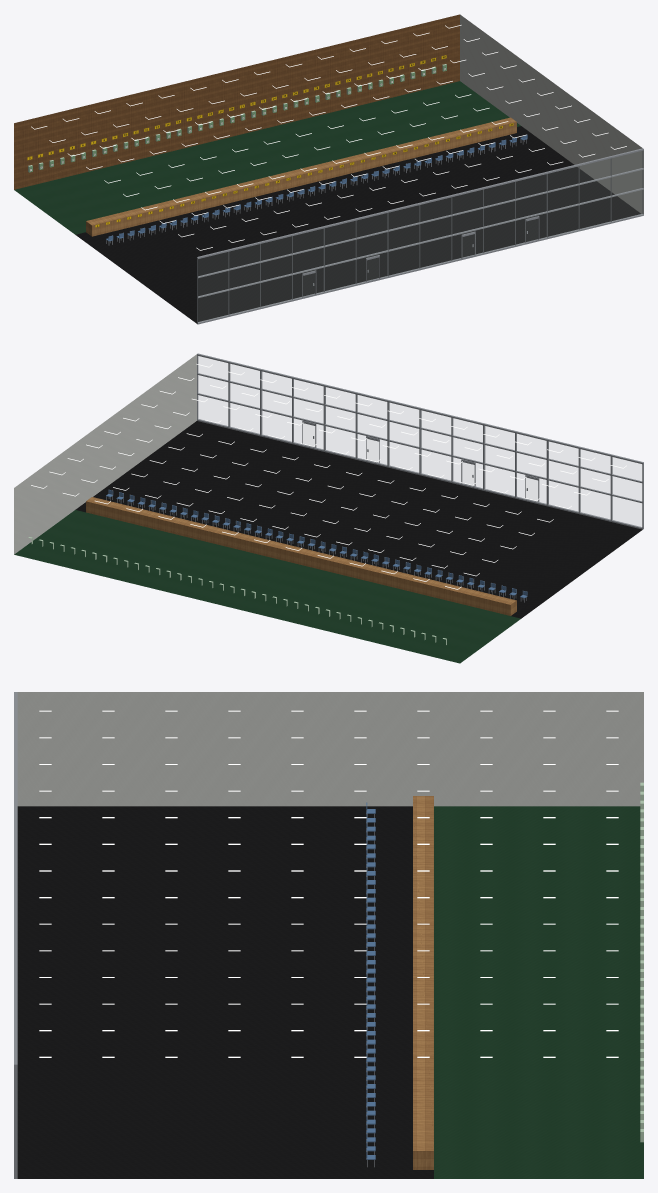
The model's file is range_10m.glb.
3 views of the same model, one above another, from view 1: azimuth 30°, elevation 25°; view 2: azimuth 150°, elevation 25°; view 3: azimuth 270°, elevation 25° (orthographic). The views are drawn at different scales.
Parts seen in each view (by area): view 1: floor_black, wall_wood, glass, floor_green, wall_plaster, metal_frame, bench_wood, light_panel, lane_number, chair_seat, sius_box_front, door_glass (+1 smaller); view 2: floor_black, floor_green, glass, wall_plaster, metal_frame, bench_wood, light_panel, chair_seat, door_glass, sius_box; view 3: floor_black, floor_green, wall_plaster, bench_wood, light_panel, chair_seat, metal_frame, sius_box.
Part boxes in pixels (box(x1,y1,x2,y2)): floor_black: box(75, 126, 640, 323); wall_wood: box(14, 14, 459, 189); glass: box(198, 151, 643, 322); floor_green: box(14, 81, 520, 234); wall_plaster: box(460, 14, 643, 213); metal_frame: box(106, 138, 643, 324); bench_wood: box(86, 117, 516, 236); light_panel: box(31, 25, 626, 250); lane_number: box(27, 55, 513, 227); chair_seat: box(106, 134, 527, 241); sius_box_front: box(29, 65, 446, 172); door_glass: box(303, 219, 537, 296); floor_black: box(75, 421, 642, 618); floor_green: box(14, 510, 520, 663); glass: box(199, 357, 641, 526); wall_plaster: box(14, 354, 196, 554); metal_frame: box(106, 353, 643, 602); bench_wood: box(86, 497, 516, 615); light_panel: box(31, 364, 626, 589); chair_seat: box(106, 490, 527, 598); door_glass: box(303, 424, 537, 499); sius_box: box(28, 537, 446, 644); floor_black: box(17, 806, 433, 1178); floor_green: box(434, 806, 643, 1178); wall_plaster: box(17, 692, 643, 806); bench_wood: box(413, 796, 433, 1169); light_panel: box(39, 710, 618, 1057); chair_seat: box(366, 802, 375, 1159); metal_frame: box(14, 692, 374, 1178); sius_box: box(640, 782, 643, 1142).
Bounding box in the file's own units: 42 × 6 × 30.
Materials: 15 (9 with a texture image).
